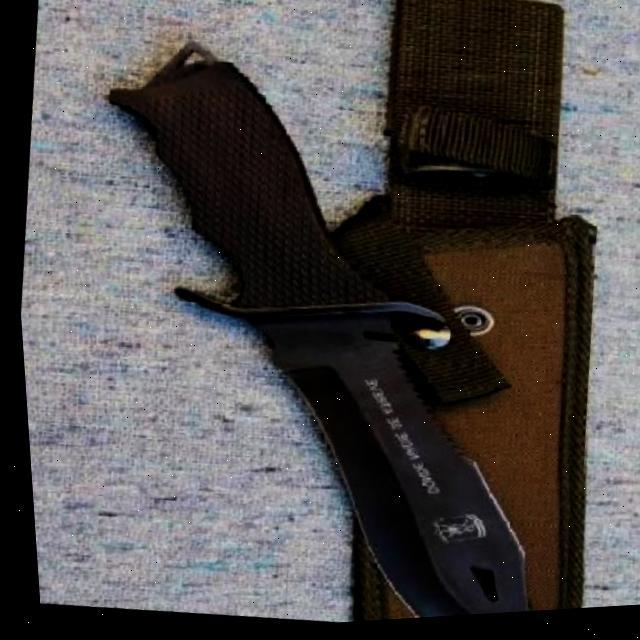knife: (43, 15, 632, 638)
